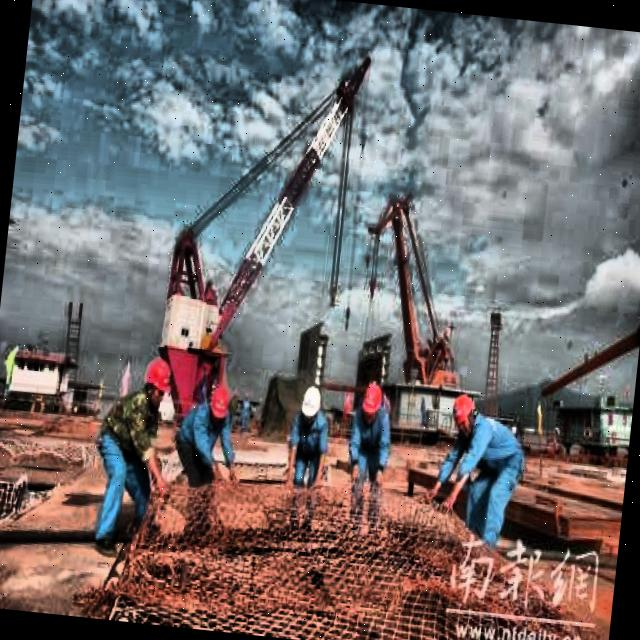helmet: (137, 356, 178, 414), (446, 388, 484, 441), (202, 384, 232, 428), (356, 379, 384, 426), (296, 385, 325, 428)
